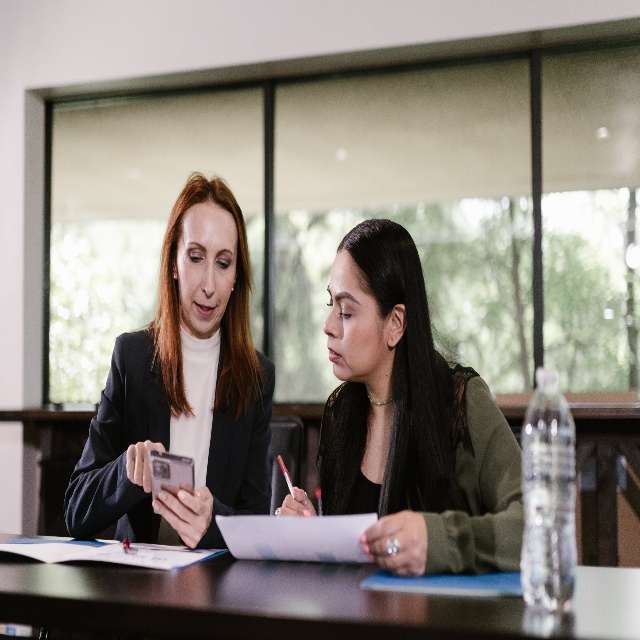Sin_guantes: (360, 510, 428, 578), (152, 484, 214, 550), (125, 440, 166, 494), (277, 485, 318, 518)
